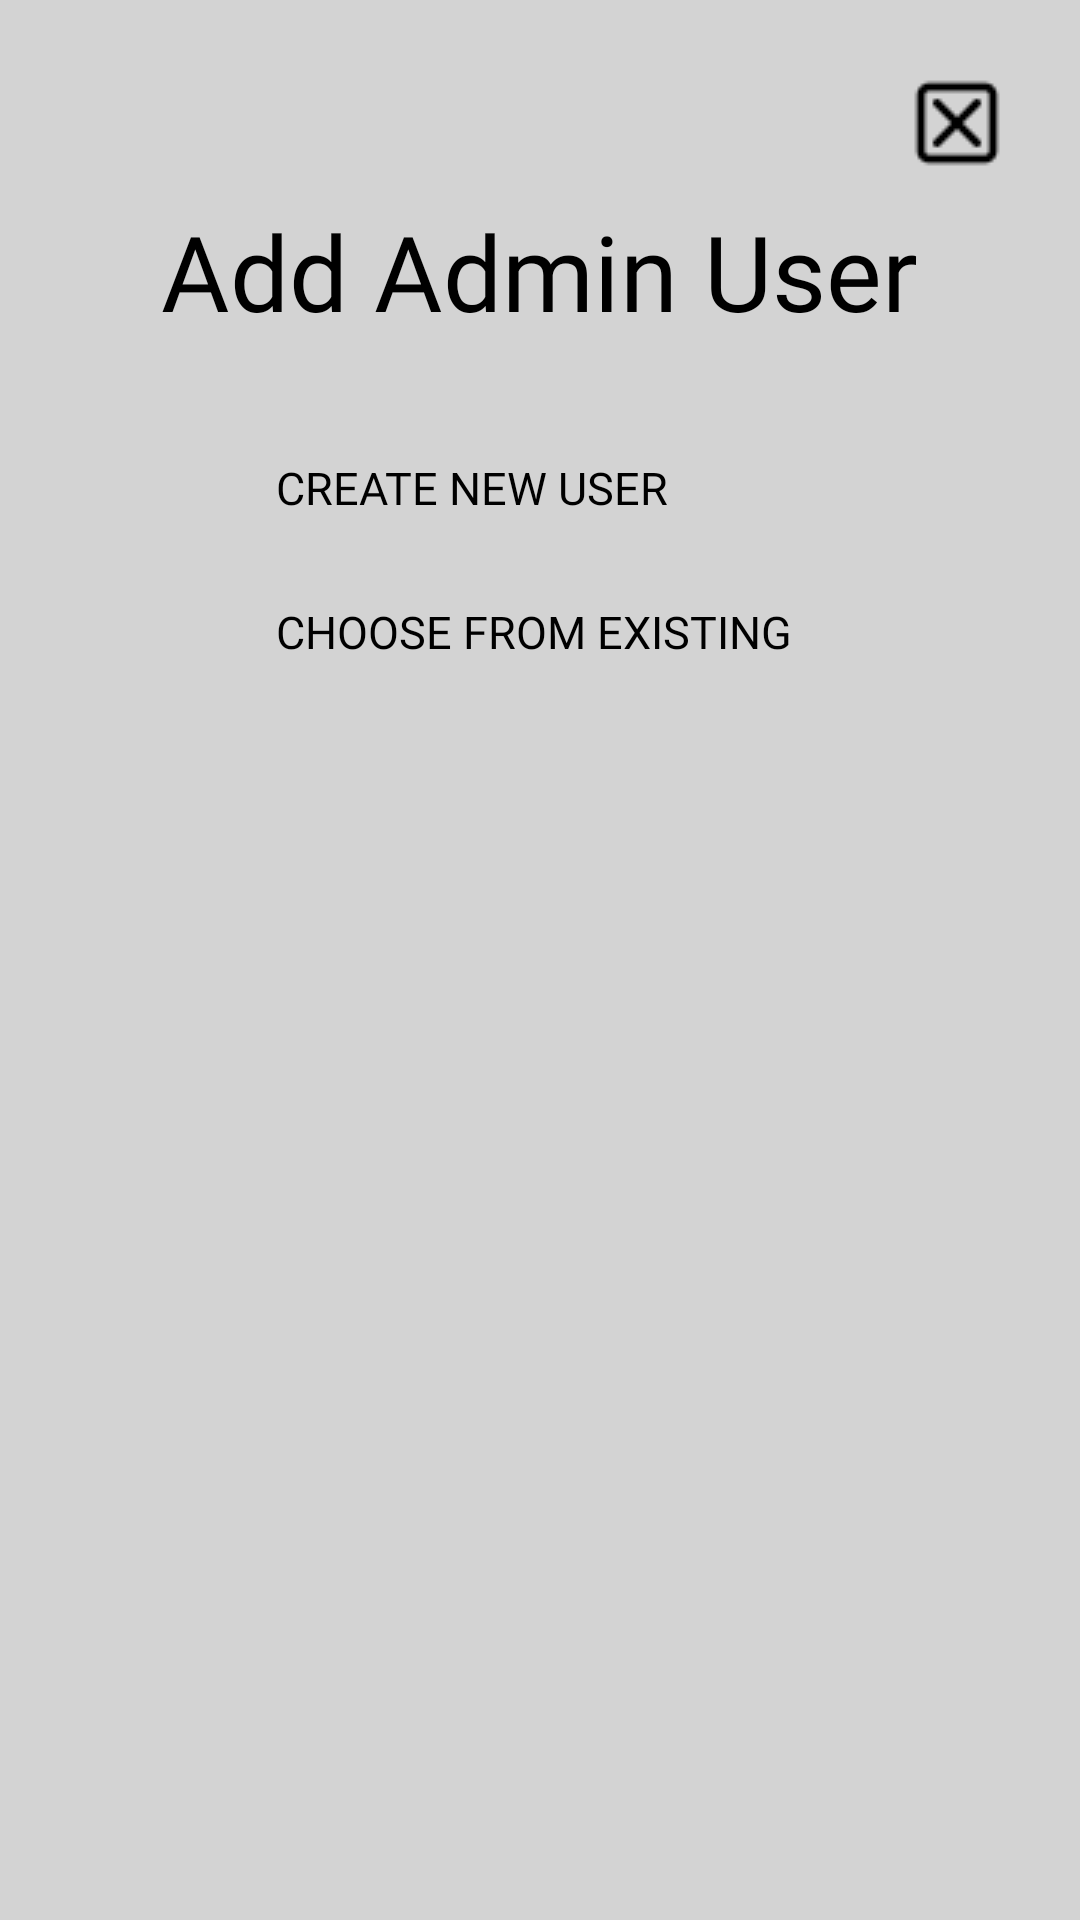

Icon click points for this 1080x1920 phone screenshot, format [x,y]:
close window: [957,123]
